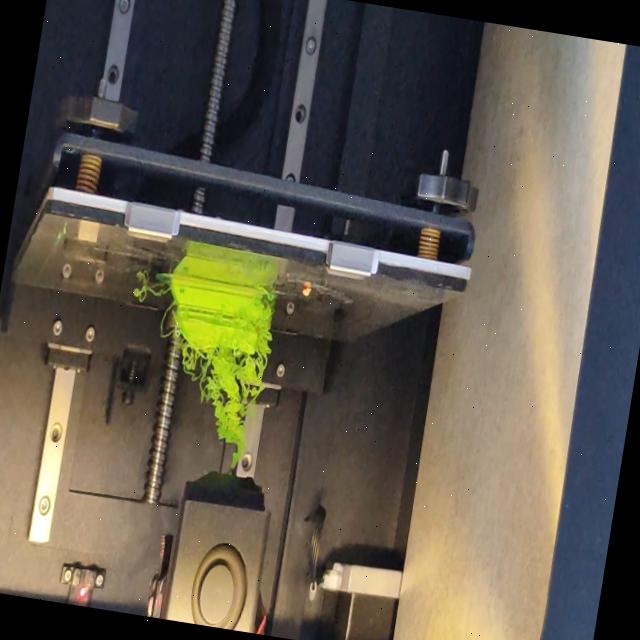spaghetti: (154, 336, 270, 467), (256, 290, 282, 351), (130, 276, 168, 312), (156, 300, 178, 342)
